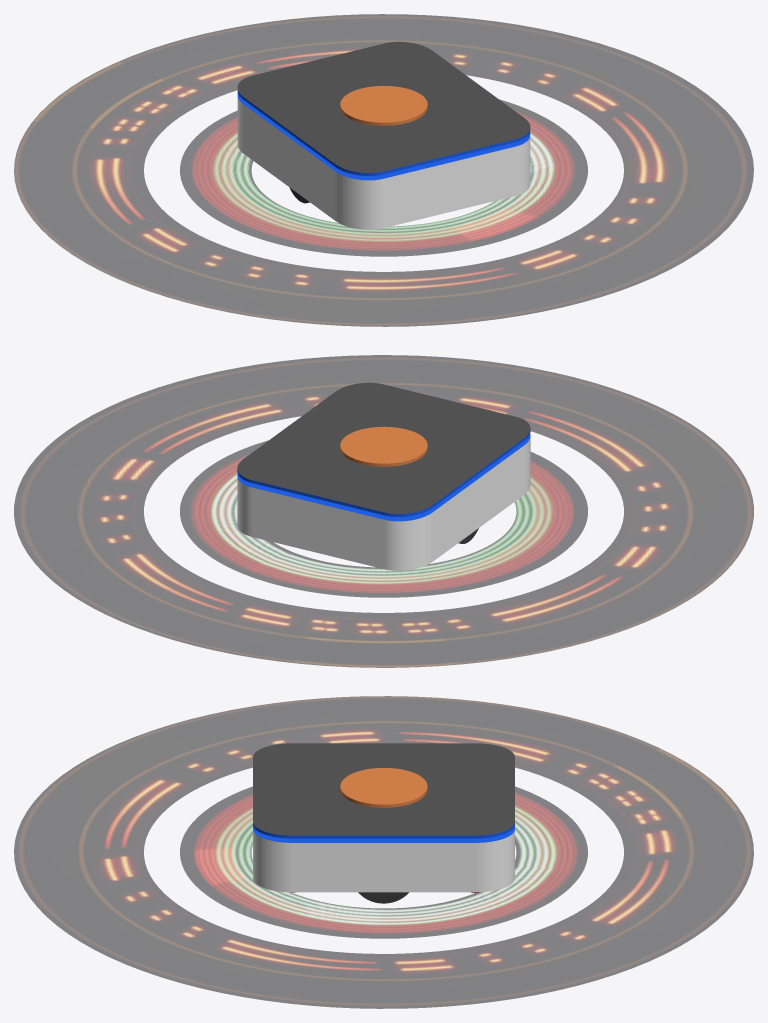
The model's file is agv2.glb.
3 renders of one model, top to bottom at view 1: azimuth 30°, elevation 25°; view 2: azimuth 150°, elevation 25°; view 3: azimuth 270°, elevation 25°, orthographic.
Visible parts, largest first — view 1: Circle, Plane.001, Circle.001, Plane, Cylinder.003; view 2: Circle, Plane.001, Circle.001, Plane, Cylinder.003; view 3: Circle, Circle.001, Plane.001, Plane, Cylinder.003.
Part boxes in pixels (x1,y1,x2,y2): Circle: [14, 14, 753, 326]; Plane.001: [237, 41, 530, 175]; Circle.001: [180, 99, 587, 256]; Plane: [237, 93, 530, 229]; Cylinder.003: [340, 85, 427, 125]; Circle: [14, 355, 753, 667]; Plane.001: [237, 382, 530, 516]; Circle.001: [180, 440, 587, 597]; Plane: [237, 434, 530, 570]; Cylinder.003: [340, 426, 427, 466]; Circle: [14, 696, 753, 1008]; Circle.001: [180, 786, 587, 938]; Plane.001: [253, 743, 514, 838]; Plane: [253, 826, 514, 892]; Cylinder.003: [340, 768, 427, 807].
Bounding box in the file's own units: 6.78 × 0.7683 × 6.78.
Materials: 11 (6 with a texture image).
